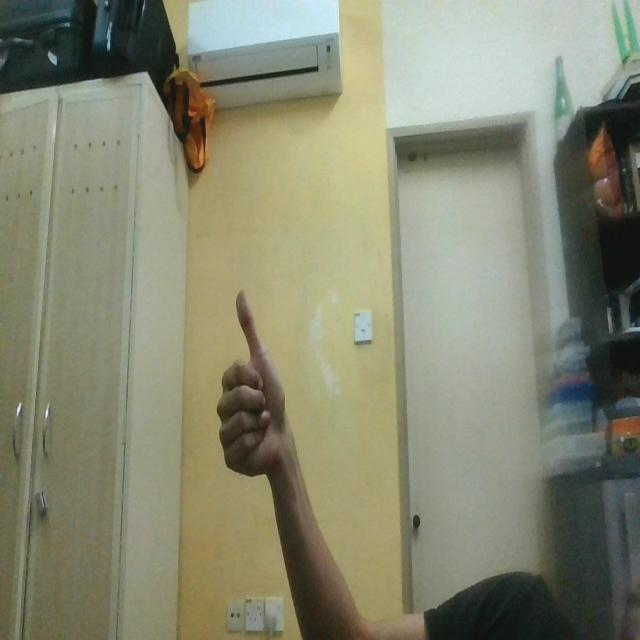thumbs up: (216, 285, 291, 486)
